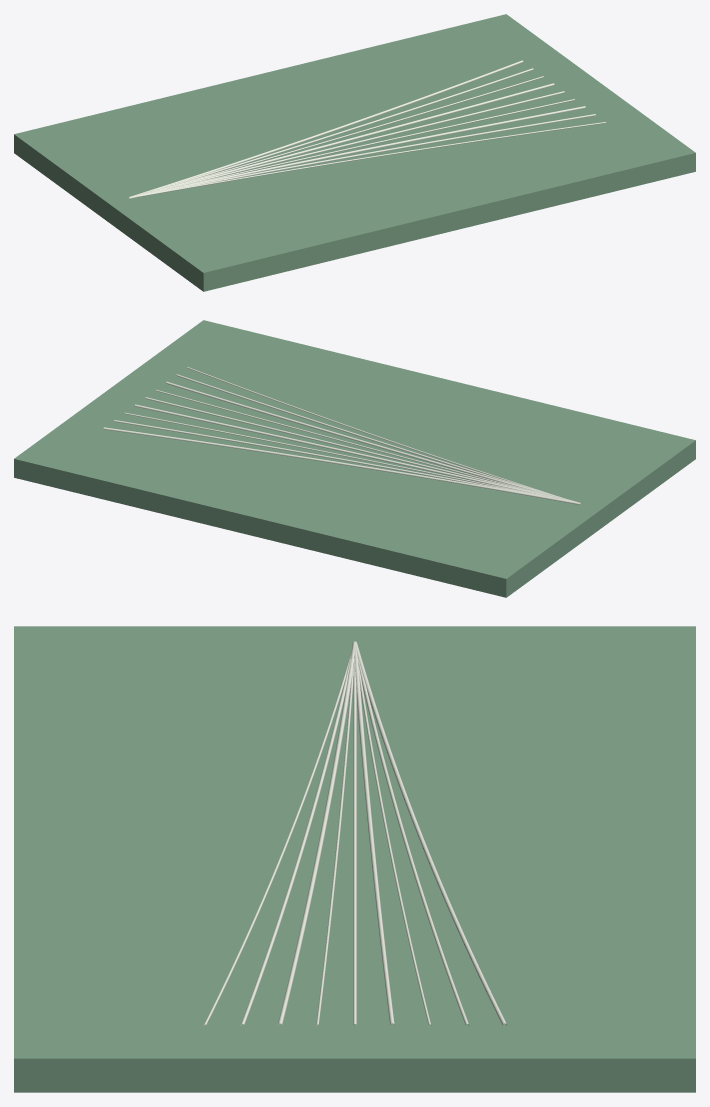
The model's file is silver.glb.
3 renders of one model, top to bottom at view 1: azimuth 30°, elevation 25°; view 2: azimuth 150°, elevation 25°; view 3: azimuth 270°, elevation 25°, orthographic. The views are drawn at different scales.
Visible parts, largest first — view 1: Panel, Silver streak.002, Silver streak.005, Silver streak.008, Silver streak.001, Silver streak.004, Silver streak, Silver streak.007, Silver streak.003, Silver streak.006; view 2: Panel, Silver streak.008, Silver streak.005, Silver streak.002, Silver streak.007, Silver streak.004, Silver streak.001, Silver streak.006, Silver streak.003, Silver streak; view 3: Panel, Silver streak.008, Silver streak.002, Silver streak.005, Silver streak.001, Silver streak.007, Silver streak.004, Silver streak, Silver streak.003, Silver streak.006.
Part boxes in pixels (x1,y1,x2,y2): Panel: (14, 14, 695, 291); Silver streak.002: (129, 106, 585, 198); Silver streak.005: (131, 83, 554, 196); Silver streak.008: (129, 60, 523, 196); Silver streak.001: (129, 114, 595, 198); Silver streak.004: (148, 91, 564, 192); Silver streak: (129, 122, 606, 198); Silver streak.007: (148, 68, 533, 191); Silver streak.003: (170, 99, 574, 188); Silver streak.006: (167, 76, 543, 186); Panel: (14, 320, 695, 597); Silver streak.008: (103, 427, 580, 504); Silver streak.005: (134, 404, 578, 502); Silver streak.002: (166, 381, 580, 502); Silver streak.007: (114, 420, 556, 498); Silver streak.004: (145, 397, 555, 497); Silver streak.001: (176, 374, 559, 496); Silver streak.006: (124, 412, 580, 504); Silver streak.003: (155, 389, 552, 496); Silver streak: (187, 367, 558, 496); Panel: (14, 626, 695, 1092); Silver streak.008: (355, 641, 507, 1025); Silver streak.002: (277, 641, 354, 1025); Silver streak.005: (354, 642, 394, 1025); Silver streak.001: (240, 650, 351, 1025); Silver streak.007: (358, 659, 469, 1025); Silver streak.004: (353, 659, 356, 1025); Silver streak: (203, 651, 351, 1025); Silver streak.003: (316, 665, 353, 1025); Silver streak.006: (358, 666, 431, 1025).
Bounding box in the file's own units: 6 × 0.239 × 4.
